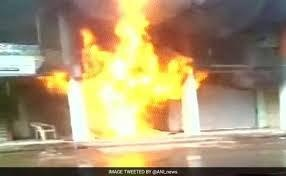fire: (42, 2, 204, 145)
